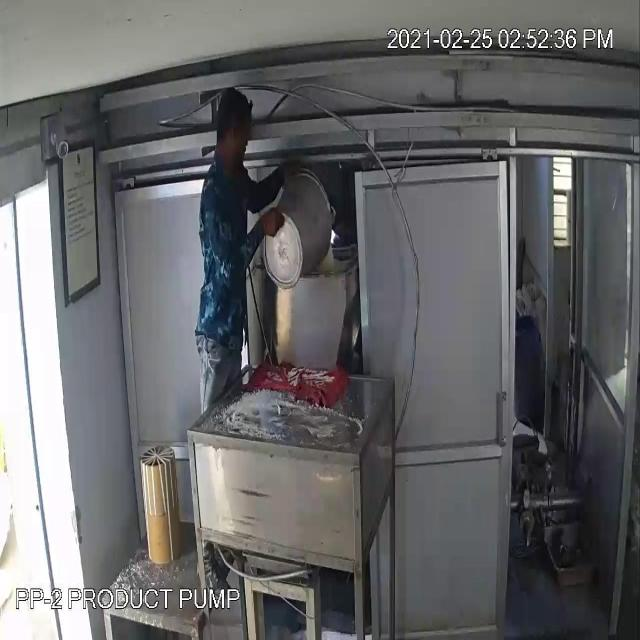no-helmet: (215, 79, 253, 147)
